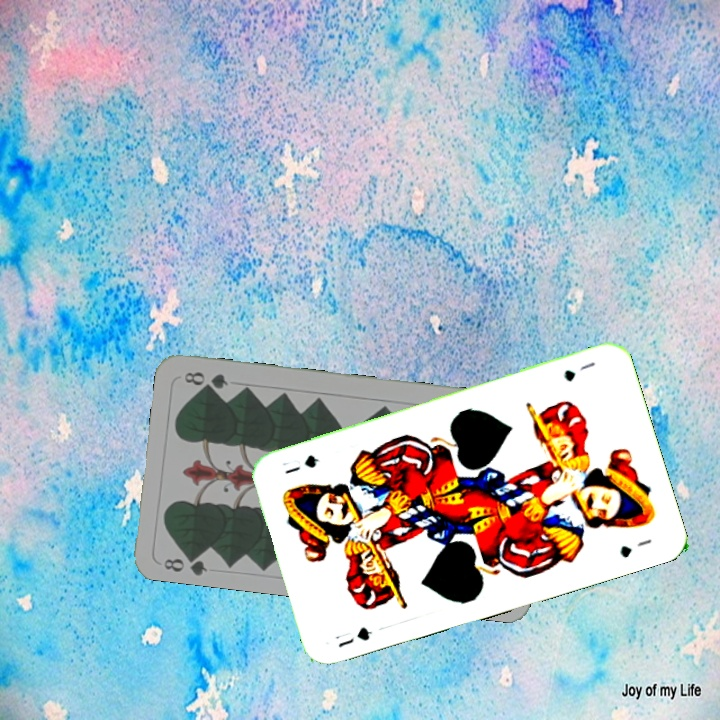G8: (160, 548, 210, 577)
GU: (334, 623, 375, 650), (559, 357, 598, 385)
